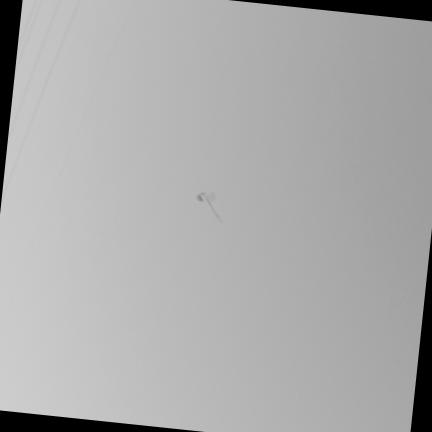Shahed: (197, 193, 221, 224)
